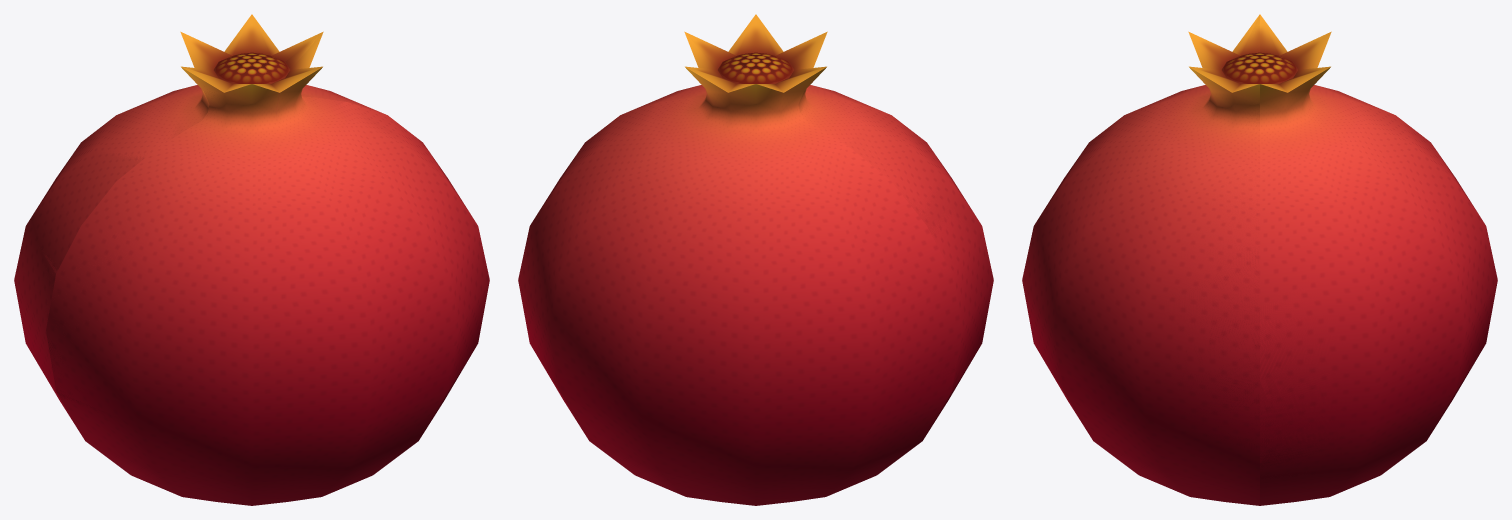
Rendered from Pomegranate.fbx.
3 renders of one model, left to right at view 1: azimuth 30°, elevation 25°; view 2: azimuth 150°, elevation 25°; view 3: azimuth 270°, elevation 25°, orthographic.
Parts seen in each view (by area): view 1: Pomegranate_Whole, Pomegranate_Half_Front, Pomegranate_Half_Back; view 2: Pomegranate_Half_Front, Pomegranate_Whole, Pomegranate_Half_Back; view 3: Pomegranate_Whole, Pomegranate_Half_Front, Pomegranate_Half_Back.
Boxes of the visible parts, x1,y1,x2,y2 form: Pomegranate_Whole: (38, 14, 489, 505); Pomegranate_Half_Front: (14, 15, 352, 412); Pomegranate_Half_Back: (46, 35, 452, 502); Pomegranate_Half_Front: (518, 32, 956, 505); Pomegranate_Whole: (560, 15, 993, 443); Pomegranate_Half_Back: (689, 14, 984, 418); Pomegranate_Whole: (1022, 15, 1444, 505); Pomegranate_Half_Front: (1260, 14, 1497, 505); Pomegranate_Half_Back: (1134, 14, 1259, 470).
Bounding box in the file's own units: 1.5 × 1.52 × 1.5.
